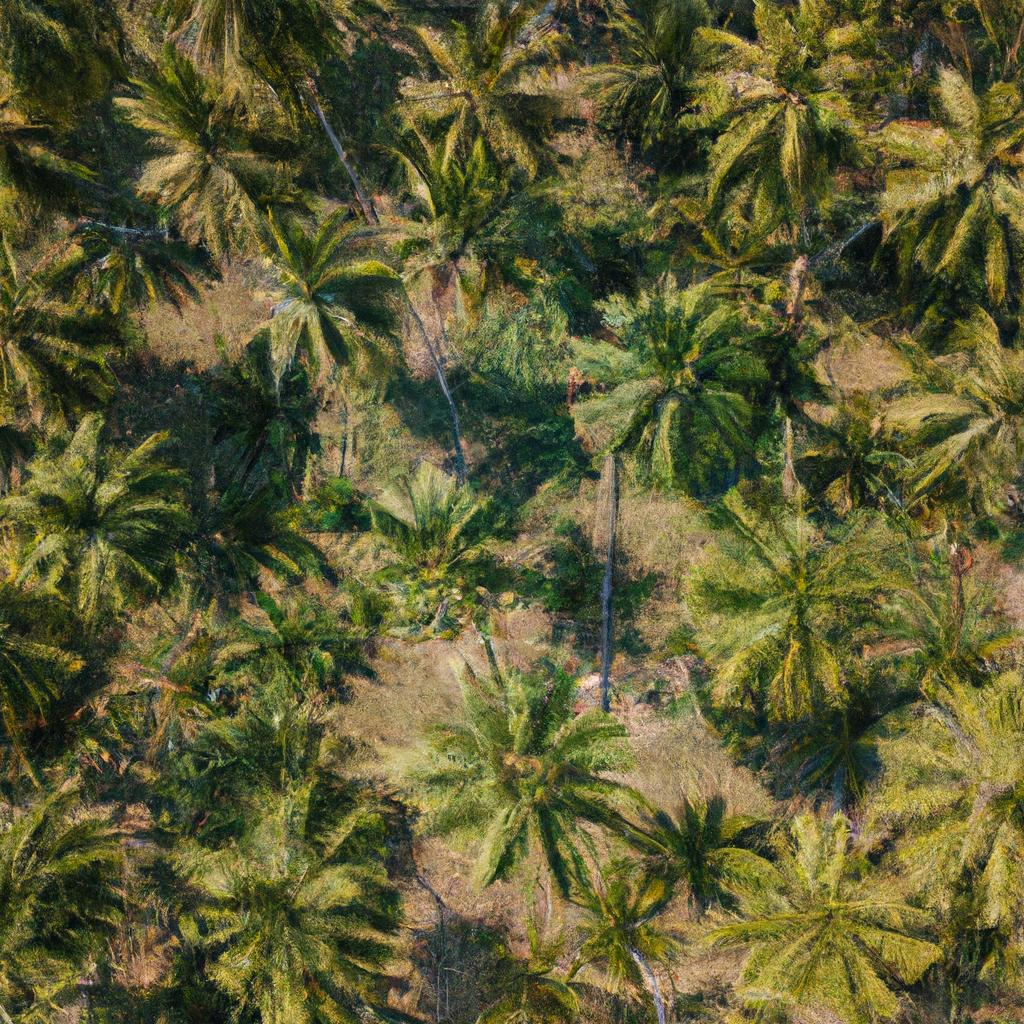coconut_tree: (651, 515, 969, 721), (553, 272, 791, 507), (408, 675, 666, 889), (193, 786, 424, 1015), (710, 810, 962, 1018), (688, 7, 893, 223), (5, 408, 186, 626), (95, 89, 322, 245), (250, 221, 439, 404)
